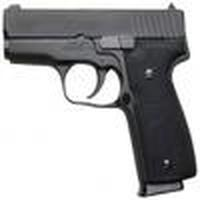gun: (5, 4, 200, 199)
